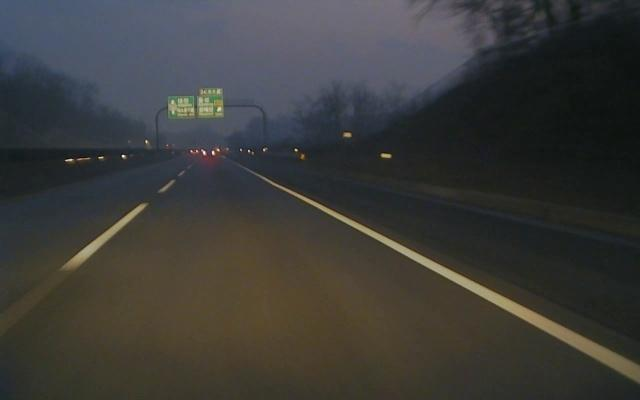lane: (248, 170, 640, 385), (55, 171, 185, 271)
